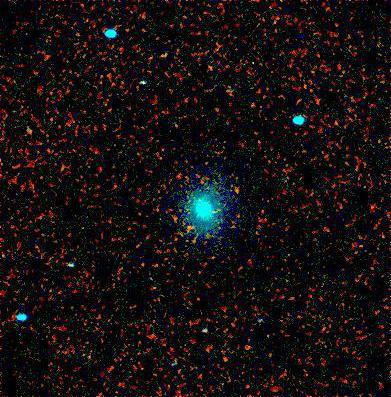star: (223, 176, 253, 206)
